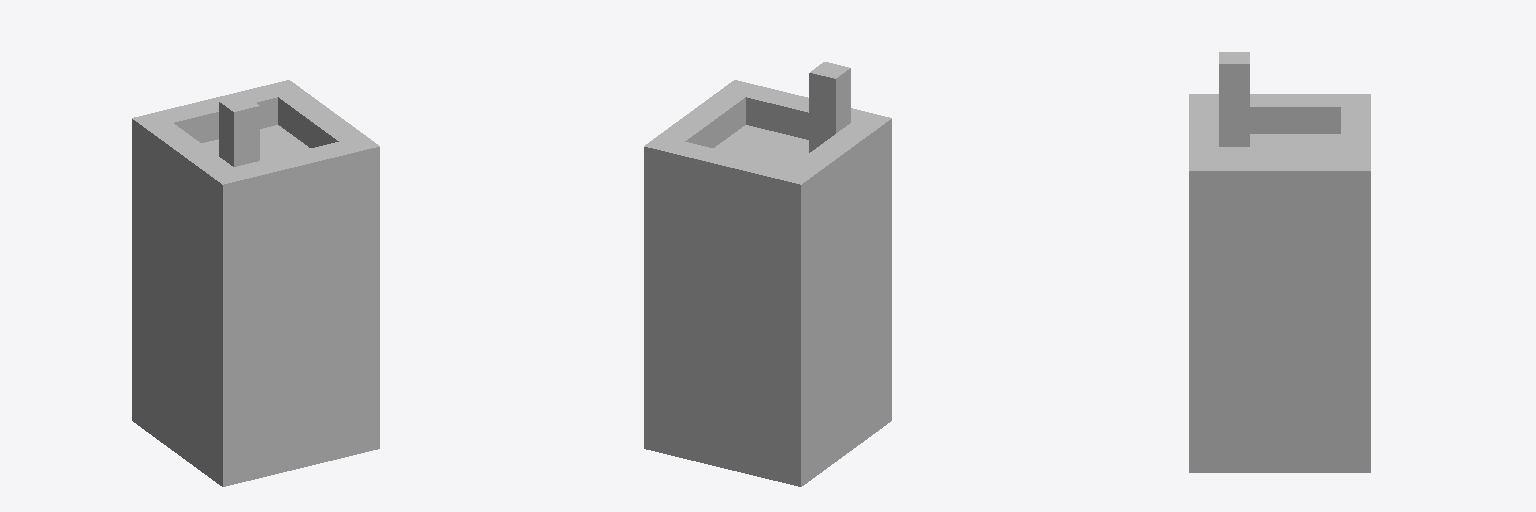
File: skyscraper.obj
3 views of the same model, side by side, from view 1: azimuth 30°, elevation 25°; view 2: azimuth 150°, elevation 25°; view 3: azimuth 270°, elevation 25° (orthographic).
Parts seen in each view (by area): view 1: object 1; view 2: object 1; view 3: object 1.
Part boxes in pixels (left/top/right/bottom): object 1: left=132, top=80, right=379, bottom=486; object 1: left=644, top=62, right=891, bottom=486; object 1: left=1189, top=52, right=1370, bottom=472.
Size of the model in its own units: 0.6 by 1.3 by 0.6.